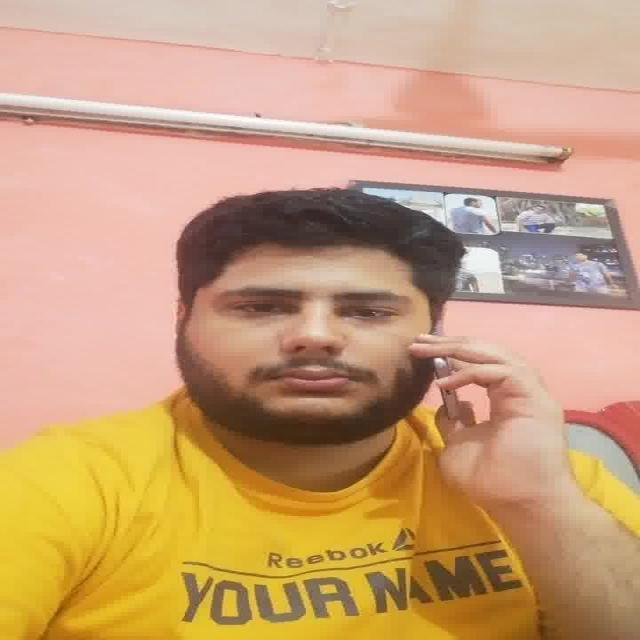Phone: (436, 356, 462, 426)
